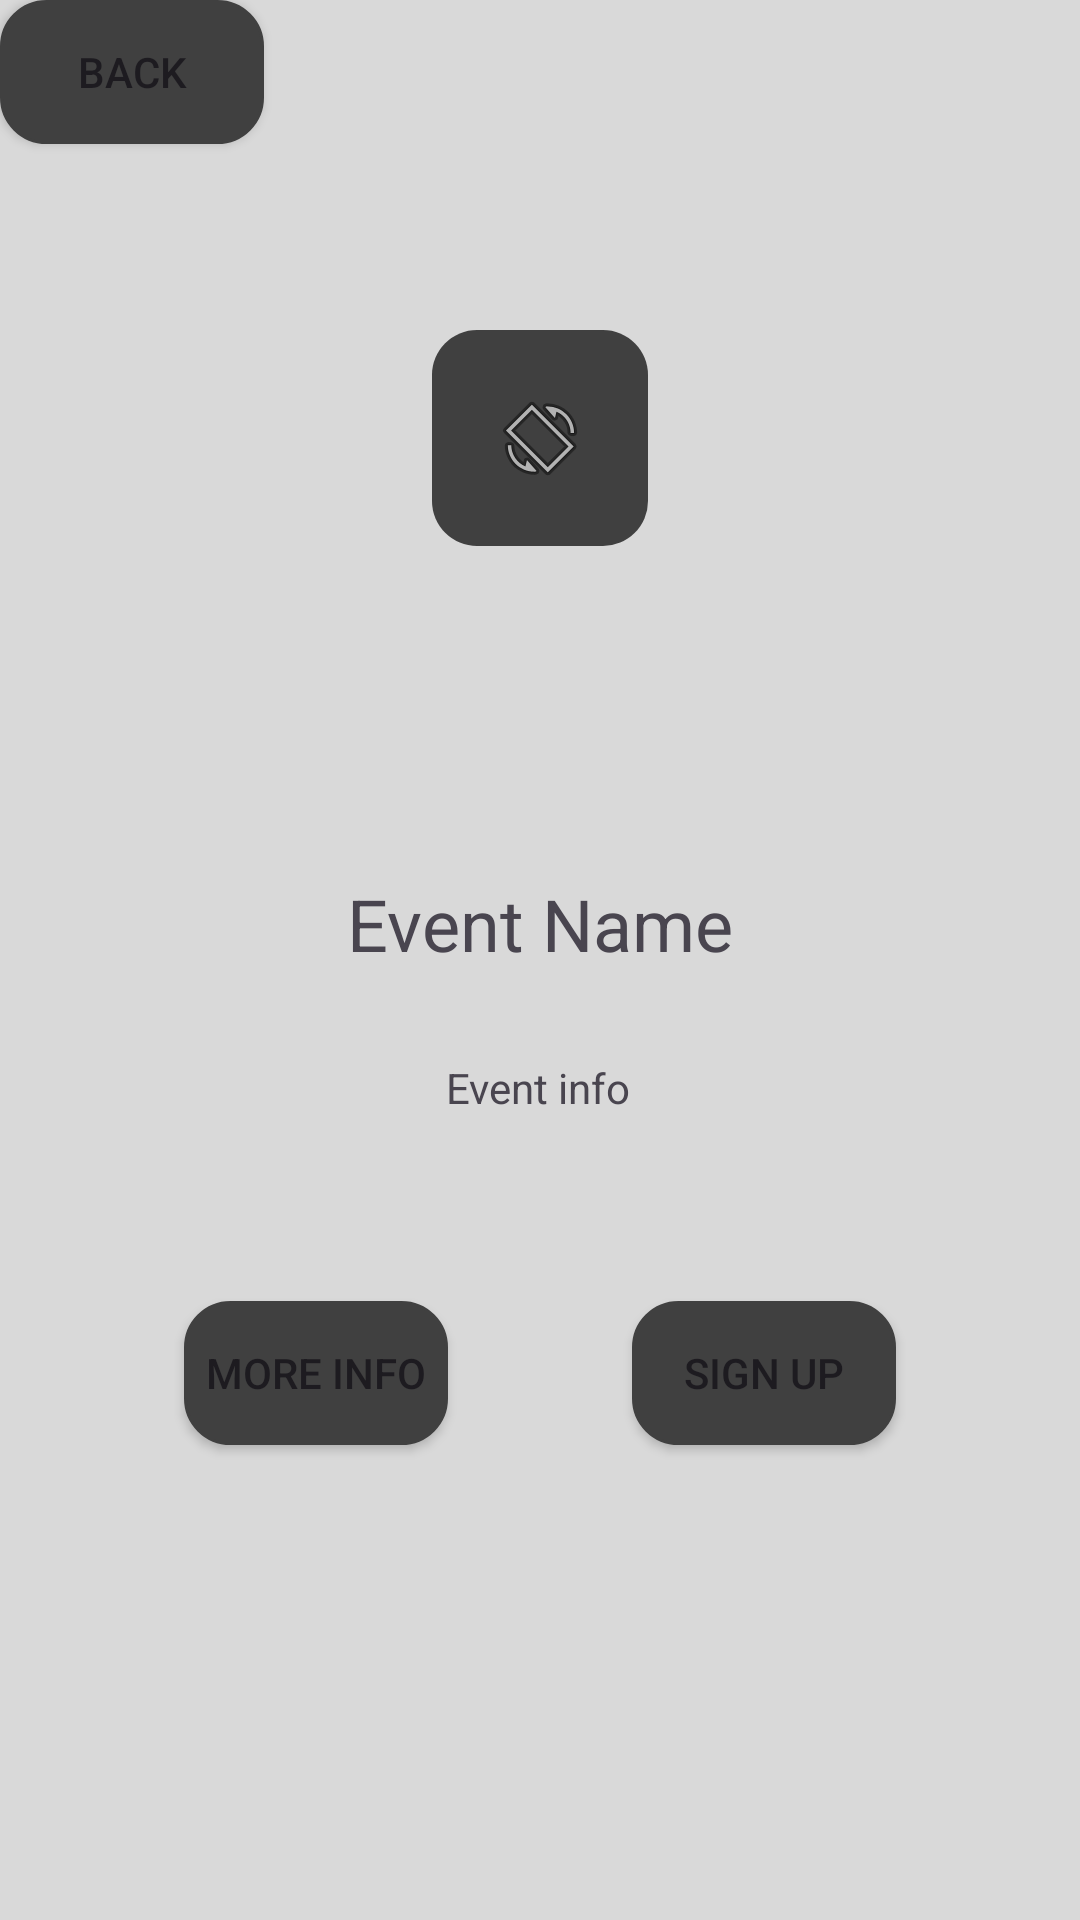

Icons on this 1080 x 1920 Android screen, each with its box as (x1, y1, x2, y2):
always landscape portrait: (432, 330, 648, 546)
